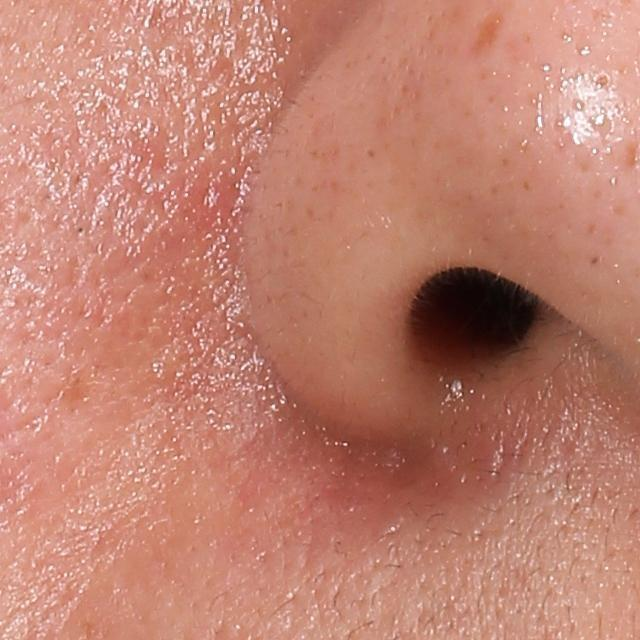melasma: (473, 9, 505, 52)
